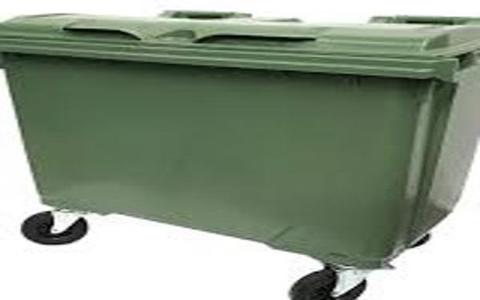Proper garbage: (2, 1, 476, 297)
